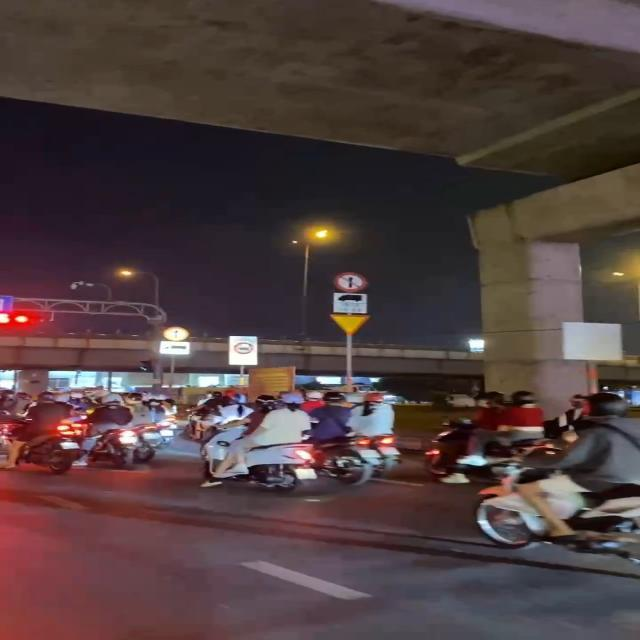136-cam-di-thang: (333, 272, 368, 292), (163, 326, 189, 342)
208-giao-nhau-voi-duong-uu-tien: (331, 314, 372, 336)
